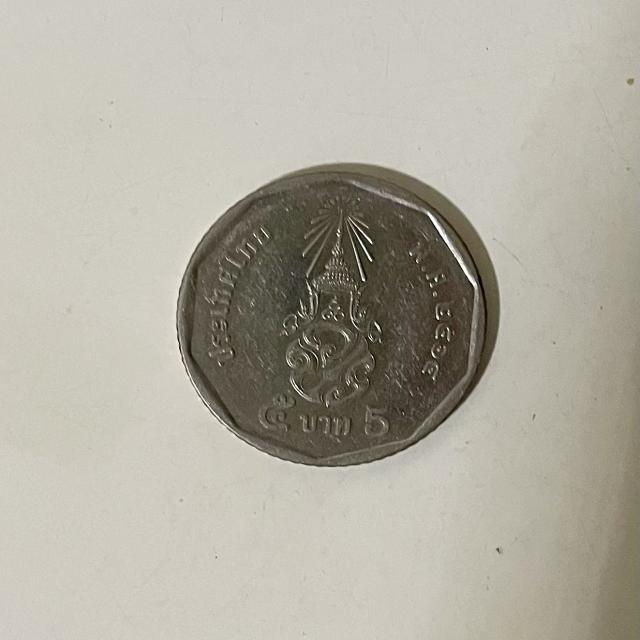5 Bath: (172, 167, 501, 475)
